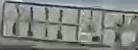1: (11, 2, 22, 36), (55, 6, 65, 41), (27, 5, 35, 38), (43, 5, 51, 38)
L: (113, 13, 126, 46)
